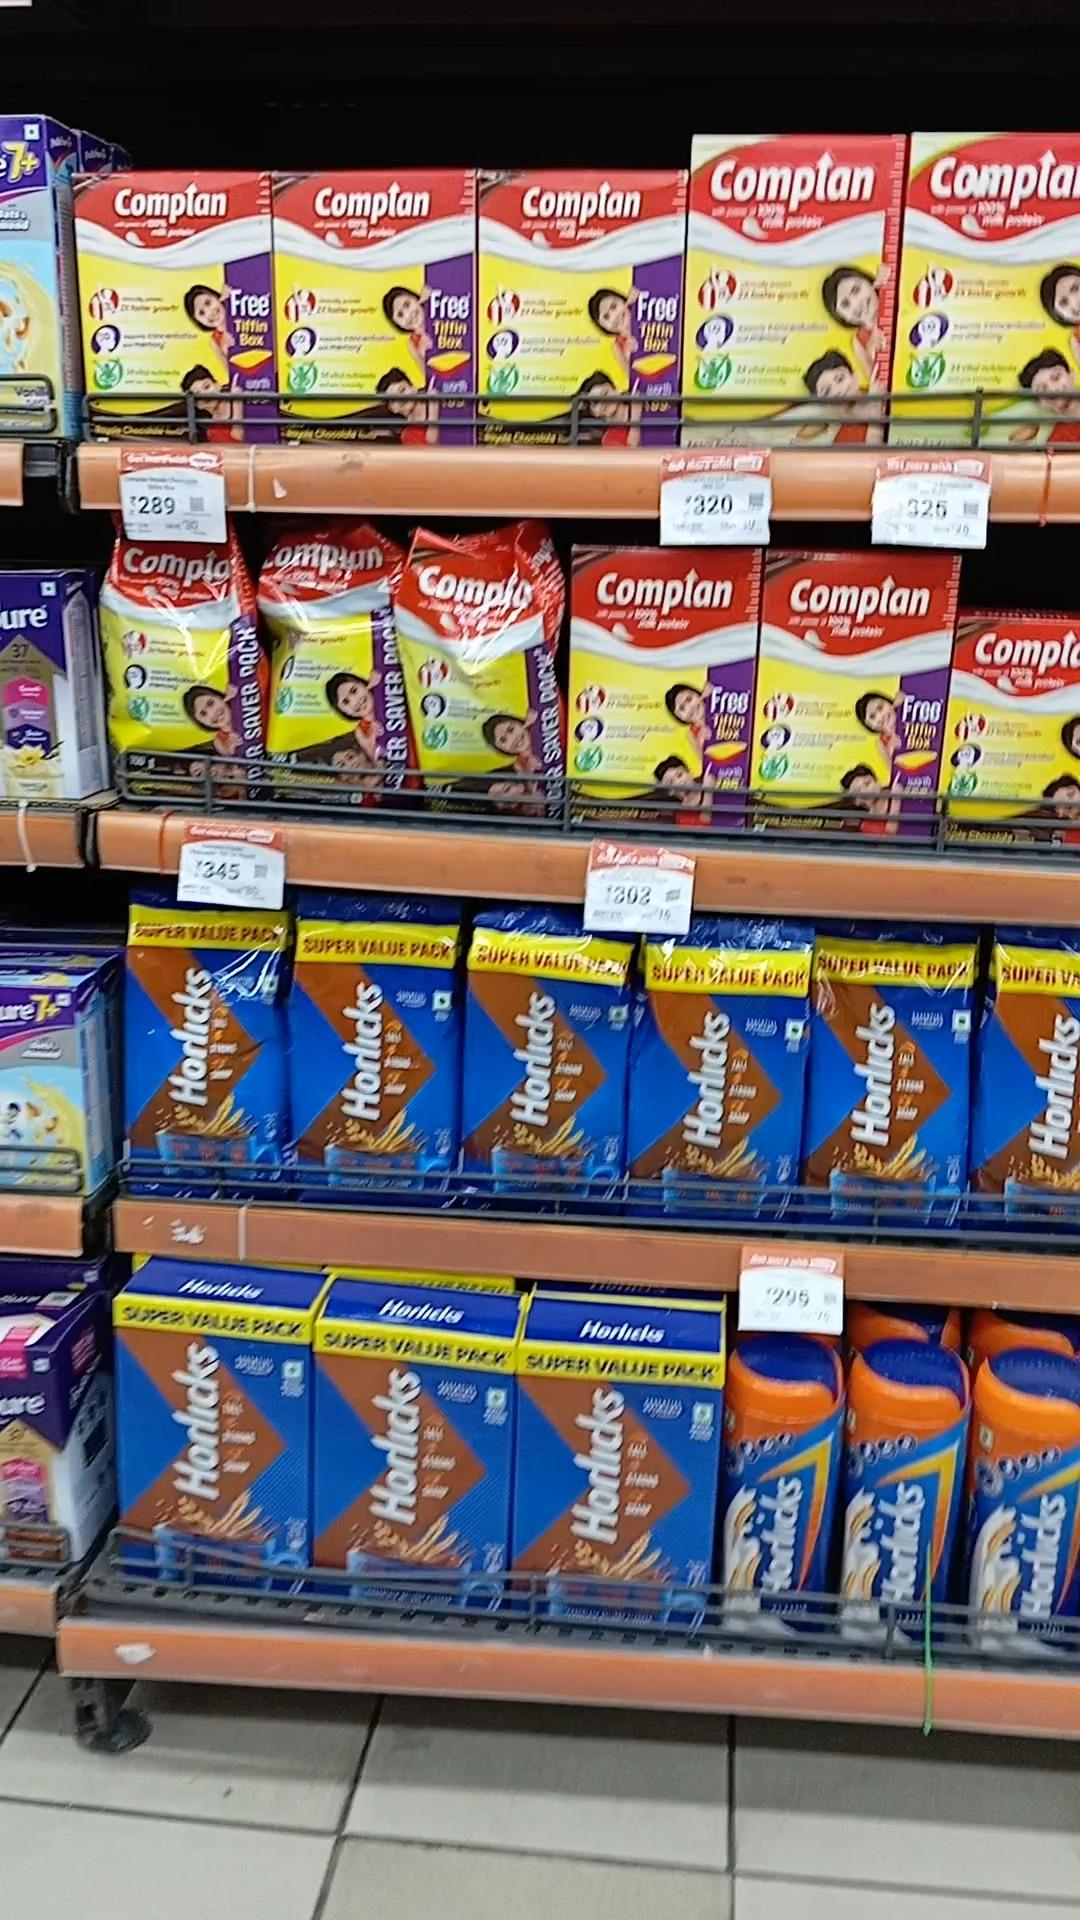COMPLAN_CHOCOLATE_1_KG_PACK: (574, 553, 753, 841), (762, 558, 935, 852)
COMPLAN_CHOCOLATE_500_GMS_PACK: (274, 170, 471, 450), (479, 177, 676, 450), (69, 178, 272, 443), (948, 618, 1080, 848)
COMPLAN_KESAR_BADAM_500_GMS_PACK: (690, 132, 884, 443)
COMPLAN_PISTA_BADAM_500_GMS_PACK: (893, 128, 1080, 452)
COMPLAN_RC_POUCH_700_GMS_12: (262, 524, 396, 823), (404, 533, 533, 831), (100, 550, 252, 791)
HORLICK_CHOCOLATE_1_KG_PACK: (516, 1349, 723, 1633), (314, 1325, 505, 1621), (113, 1298, 295, 1602)
HORLICK_CHOCOLATE_750_G_POUCH: (808, 927, 975, 1232), (291, 895, 458, 1197), (628, 923, 802, 1208), (117, 877, 276, 1188), (467, 914, 607, 1218)
HORLICK_CLASSIC_MALT_750_G_POUCH: (980, 945, 1080, 1247)
